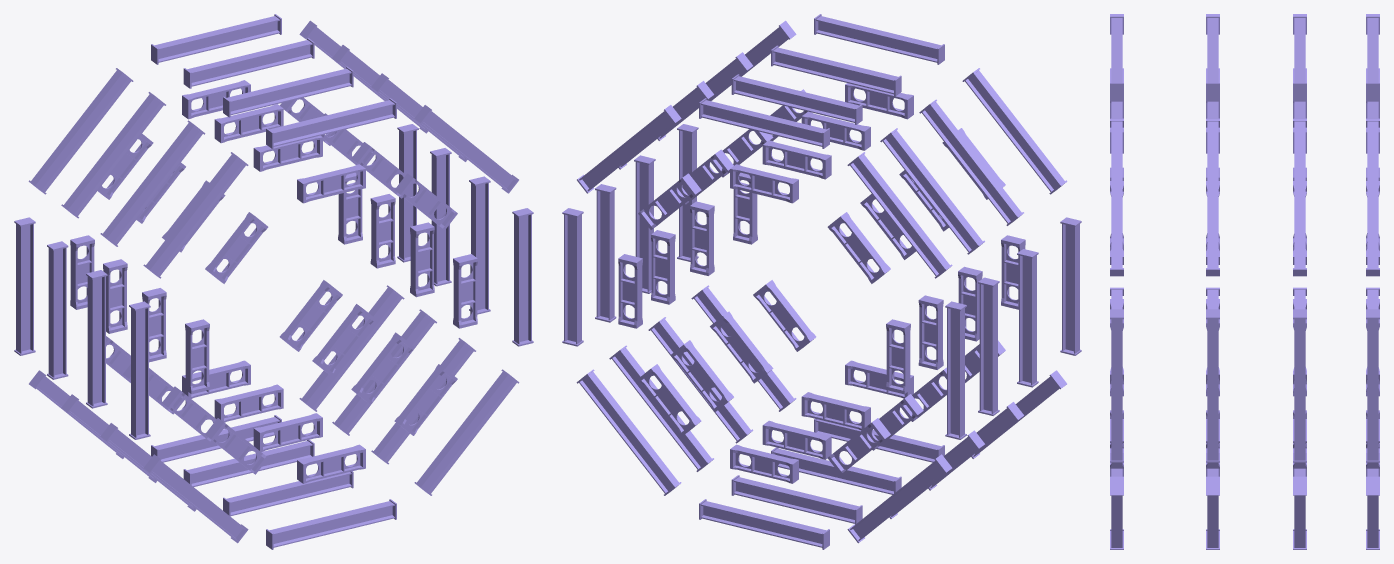
File: Warm-Structure-cut1.glb
3 views of the same model, side by side, from view 1: azimuth 30°, elevation 25°; view 2: azimuth 150°, elevation 25°; view 3: azimuth 270°, elevation 25° (orthographic). The views are drawn at different scales.
Parts seen in each view (by area): view 1: null; view 2: null; view 3: null.
Part boxes in pixels (left/top/right/bottom): null: left=14, top=14, right=533, bottom=549; null: left=562, top=14, right=1081, bottom=549; null: left=1110, top=14, right=1379, bottom=549.
Bounding box in the file's own units: 18.28 × 18.28 × 9.63.
